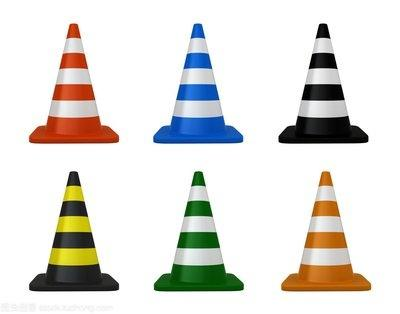cone_barrel: (158, 168, 238, 288), (156, 20, 237, 138), (31, 24, 114, 138), (283, 171, 364, 287), (283, 20, 359, 138), (36, 168, 111, 287)
